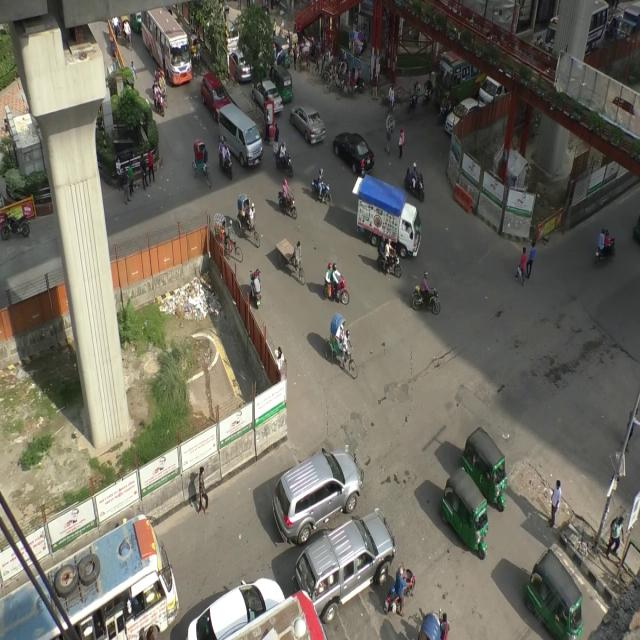Rikshaw-Py4o: (322, 310, 360, 382), (233, 184, 263, 234), (213, 202, 239, 250), (188, 134, 213, 178)
